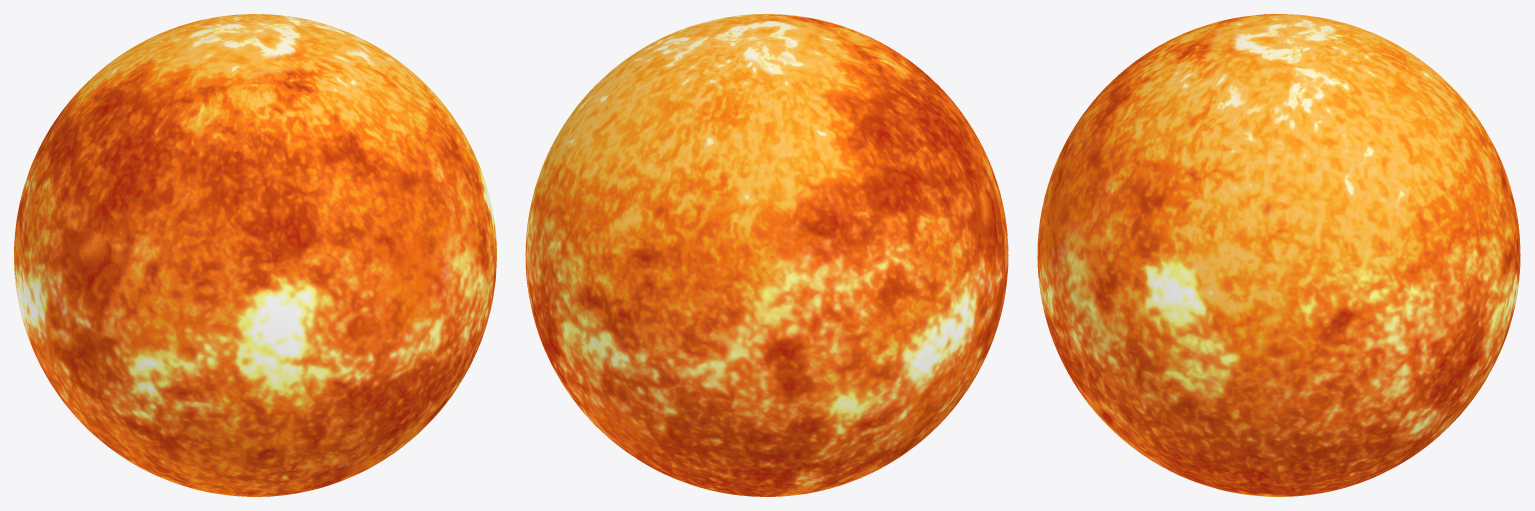
The model's file is sun_model.glb.
The picture shows the model from 3 angles, left to right: view 1: azimuth 30°, elevation 25°; view 2: azimuth 150°, elevation 25°; view 3: azimuth 270°, elevation 25°; orthographic projection.
Parts seen in each view (by area): view 1: Object_2; view 2: Object_2; view 3: Object_2.
Part boxes in pixels (x1,y1,x2,y2): Object_2: (14,14,496,496); Object_2: (525,14,1008,496); Object_2: (1037,14,1520,496).
Size of the model in its own units: 2000 by 2000 by 2000.
Materials: 1 (1 with a texture image).
